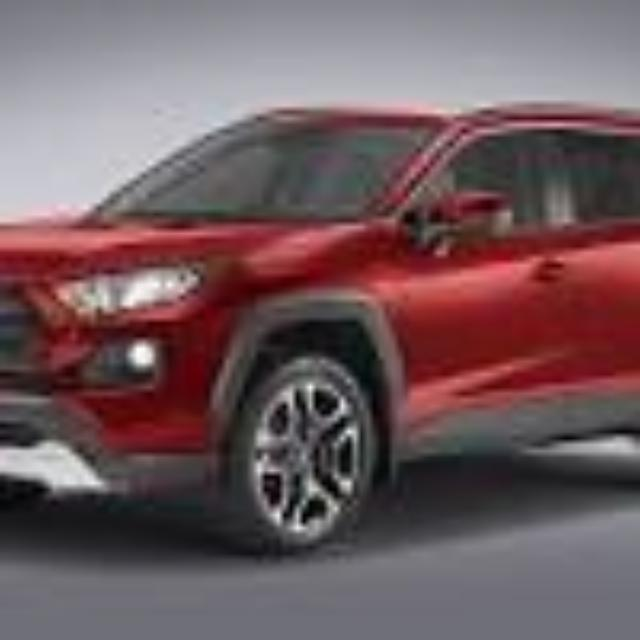toyota: (0, 98, 640, 560)
